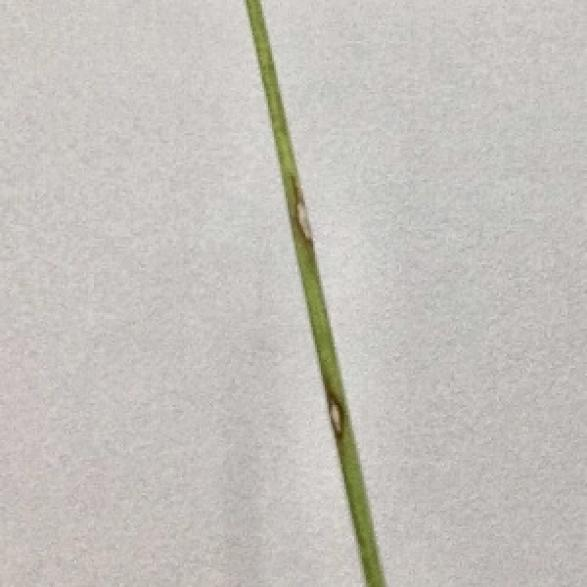Leaf_smut: (280, 168, 329, 254), (317, 362, 350, 436)
